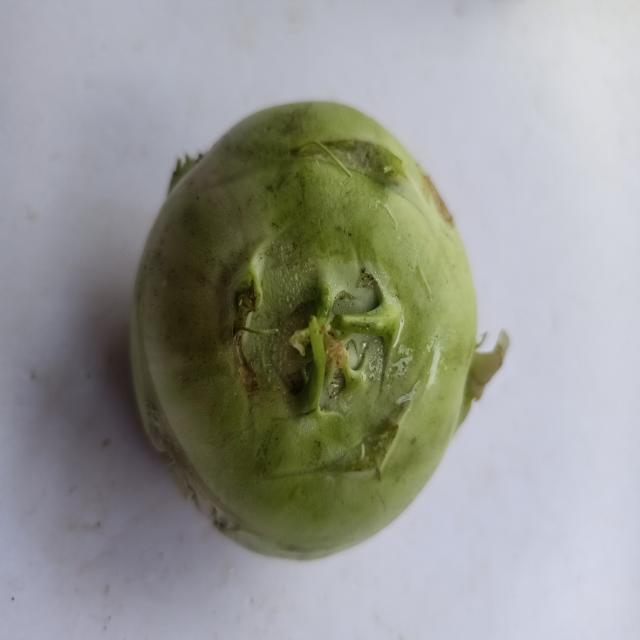Turnip: (116, 86, 518, 582)
